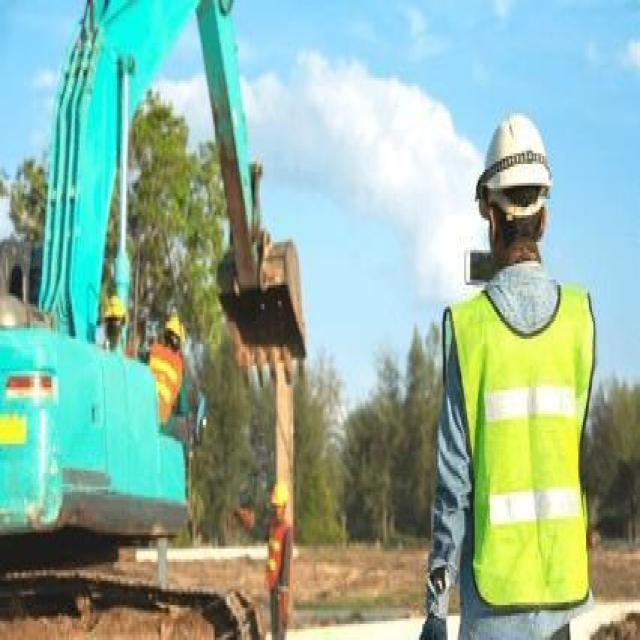helmet: (468, 105, 558, 207)
vest: (439, 276, 598, 628)
